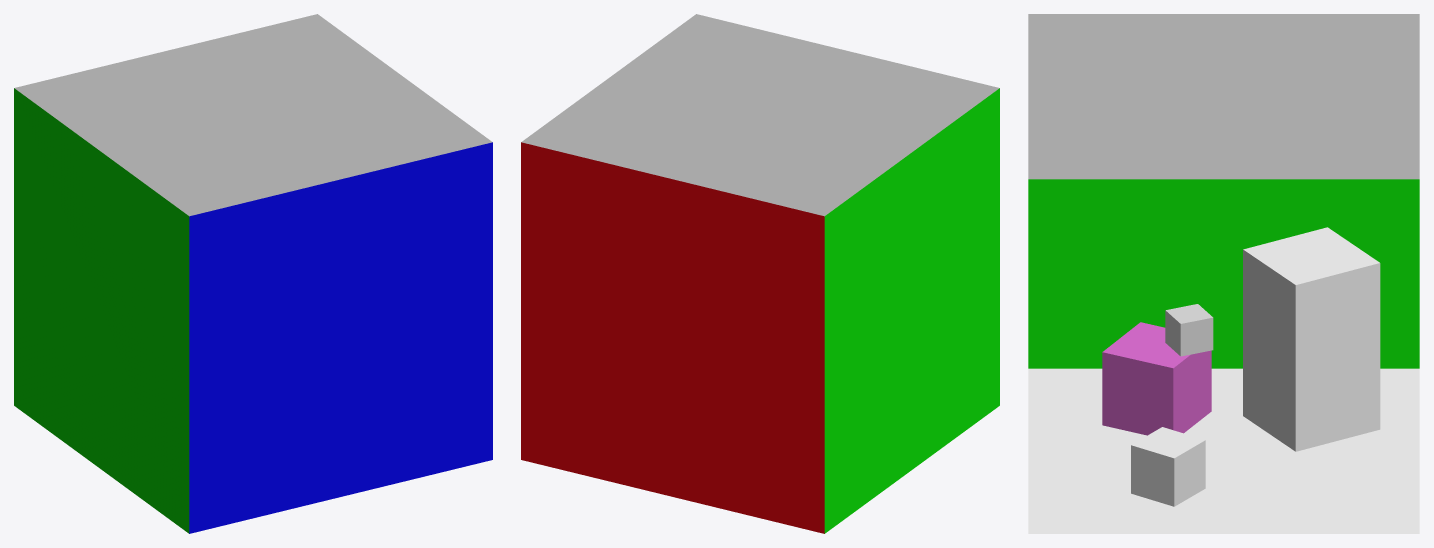
Rendered from cornell-box.glb.
3 renders of one model, left to right at view 1: azimuth 30°, elevation 25°; view 2: azimuth 150°, elevation 25°; view 3: azimuth 270°, elevation 25°, orthographic. The views are drawn at different scales.
Parts seen in each view (by area): view 1: Plane.001, Plane.002, Plane.004; view 2: Plane.003, Plane.002, Plane.004; view 3: Plane.004, Plane.002, Plane, Cube.001, Cube, Cube.002, Cube.003.
Boxes of the visible parts, left/top/right/bottom form: Plane.001: left=189, top=142, right=492, bottom=533; Plane.002: left=14, top=88, right=189, bottom=533; Plane.004: left=14, top=14, right=492, bottom=216; Plane.003: left=521, top=142, right=824, bottom=533; Plane.002: left=824, top=88, right=999, bottom=533; Plane.004: left=521, top=14, right=999, bottom=216; Plane.004: left=1028, top=14, right=1419, bottom=179; Plane.002: left=1028, top=179, right=1419, bottom=368; Plane: left=1028, top=368, right=1419, bottom=533; Cube.001: left=1243, top=227, right=1380, bottom=451; Cube: left=1102, top=322, right=1211, bottom=435; Cube.002: left=1131, top=427, right=1205, bottom=506; Cube.003: left=1165, top=304, right=1213, bottom=356.
Size of the model in its own units: 40 by 40 by 40.
